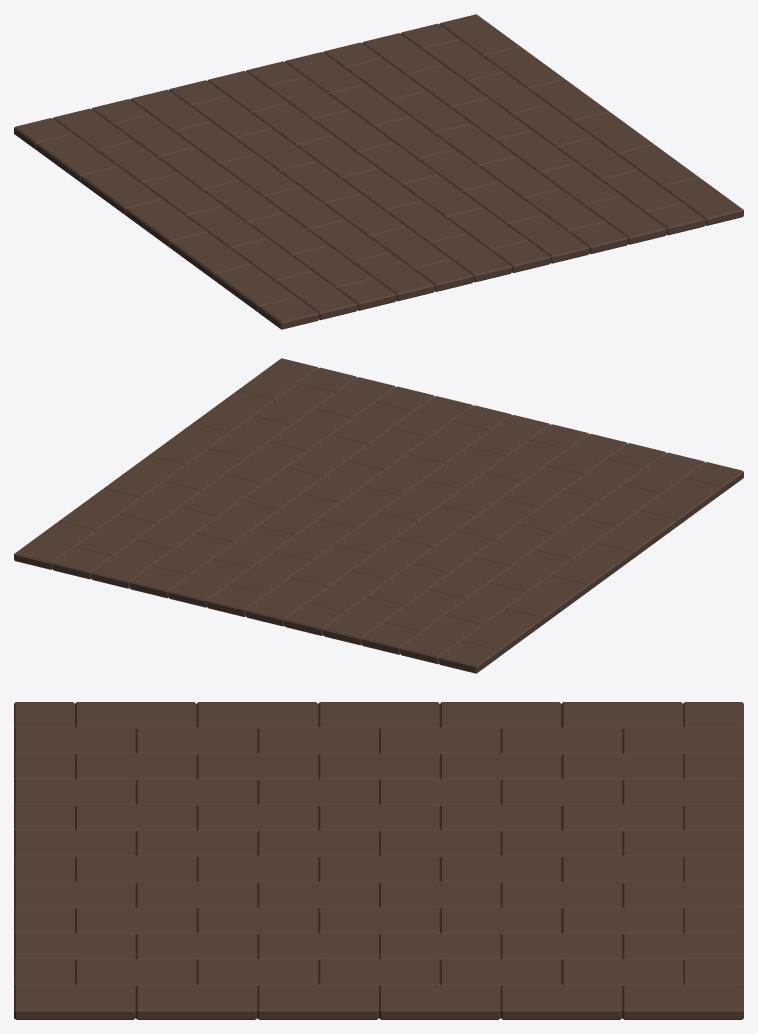
File: Canbin1_Floor.fbx
3 views of the same model, one above another, from view 1: azimuth 30°, elevation 25°; view 2: azimuth 150°, elevation 25°; view 3: azimuth 270°, elevation 25° (orthographic). The views are drawn at different scales.
Visible parts, largest first — view 1: Plane.047, Plane.076, Plane.060, Plane.034, Plane.021, Plane.073, Plane.074, Plane.077, Plane.008, Plane.075, Plane.078, Plane.010 (+66 smaller); view 2: Plane.041, Plane.076, Plane.054, Plane.028, Plane.015, Plane.067, Plane.075, Plane.078, Plane.002, Plane.077, Plane.074, Plane.012 (+66 smaller); view 3: Plane.004, Plane.007, Plane.002, Plane.005, Plane.006, Plane.008, Plane.022, Plane.025, Plane.043, Plane.046, Plane.023, Plane.061 (+66 smaller).
Boxes of the visible parts, left/top/right/bottom form: Plane.047: left=430, top=234, right=511, bottom=282; Plane.076: left=125, top=199, right=206, bottom=247; Plane.060: left=353, top=253, right=434, bottom=301; Plane.034: left=508, top=215, right=589, bottom=263; Plane.021: left=585, top=196, right=666, bottom=244; Plane.073: left=276, top=272, right=357, bottom=320; Plane.074: left=36, top=134, right=117, bottom=182; Plane.077: left=170, top=232, right=251, bottom=280; Plane.008: left=662, top=177, right=743, bottom=225; Plane.075: left=81, top=167, right=162, bottom=215; Plane.078: left=215, top=265, right=296, bottom=312; Plane.010: left=467, top=72, right=548, bottom=115; Plane.041: left=246, top=578, right=327, bottom=626; Plane.076: left=551, top=543, right=632, bottom=591; Plane.054: left=323, top=597, right=404, bottom=645; Plane.028: left=168, top=559, right=249, bottom=607; Plane.015: left=91, top=540, right=172, bottom=588; Plane.067: left=400, top=616, right=481, bottom=664; Plane.075: left=506, top=576, right=587, bottom=624; Plane.078: left=640, top=478, right=721, bottom=526; Plane.002: left=14, top=521, right=95, bottom=569; Plane.077: left=595, top=511, right=676, bottom=559; Plane.074: left=461, top=609, right=542, bottom=656; Plane.012: left=209, top=416, right=290, bottom=459; Plane.004: left=500, top=985, right=622, bottom=1019; Plane.007: left=135, top=985, right=257, bottom=1019; Plane.002: left=622, top=985, right=743, bottom=1019; Plane.005: left=379, top=985, right=500, bottom=1019; Plane.006: left=257, top=985, right=378, bottom=1019; Plane.008: left=14, top=985, right=135, bottom=1019; Plane.022: left=561, top=907, right=683, bottom=935; Plane.025: left=196, top=907, right=318, bottom=935; Plane.043: left=500, top=830, right=622, bottom=857; Plane.046: left=135, top=830, right=257, bottom=857; Plane.023: left=439, top=907, right=561, bottom=935; Plane.061: left=561, top=753, right=683, bottom=780.
Size of the model in its own units: 9 by 9 by 0.15.
